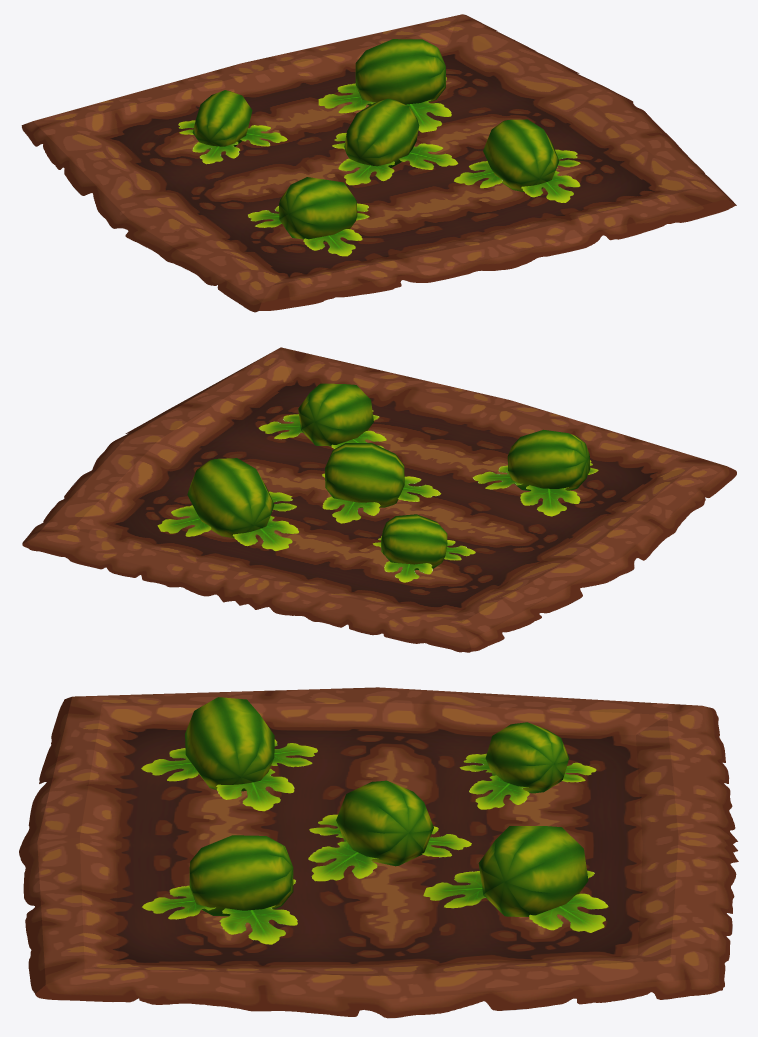
File: Field_02b.FBX
3 renders of one model, top to bottom at view 1: azimuth 30°, elevation 25°; view 2: azimuth 150°, elevation 25°; view 3: azimuth 270°, elevation 25°, orthographic. The views are drawn at different scales.
Visible parts, largest first — view 1: Field_02b; view 2: Field_02b; view 3: Field_02b.
Part boxes in pixels (x1=…): Field_02b: x1=21, y1=14, x2=736, y2=312; Field_02b: x1=22, y1=347, x2=736, y2=652; Field_02b: x1=19, y1=687, x2=738, y2=1018.
Size of the model in its own units: 2.96 by 0.3638 by 2.74.
